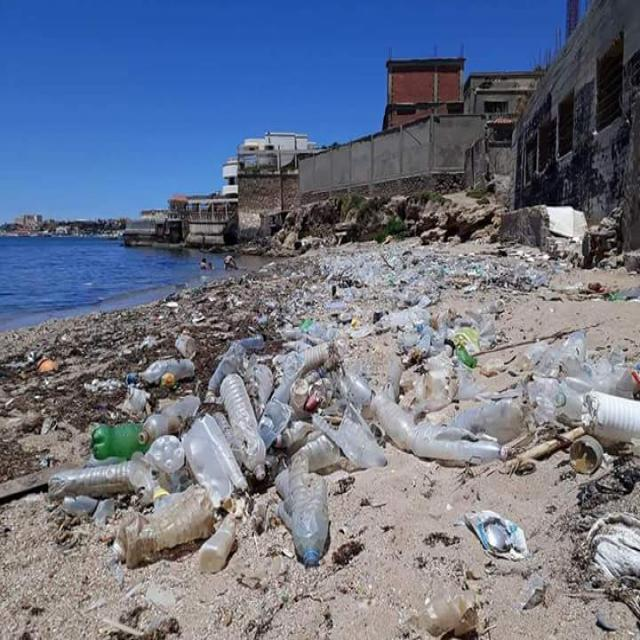garbage: (33, 299, 640, 610), (326, 244, 541, 298)
